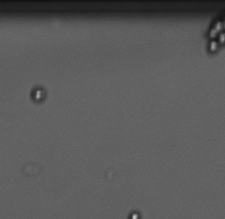Living Cell: (29, 87, 48, 102), (208, 39, 219, 53)
